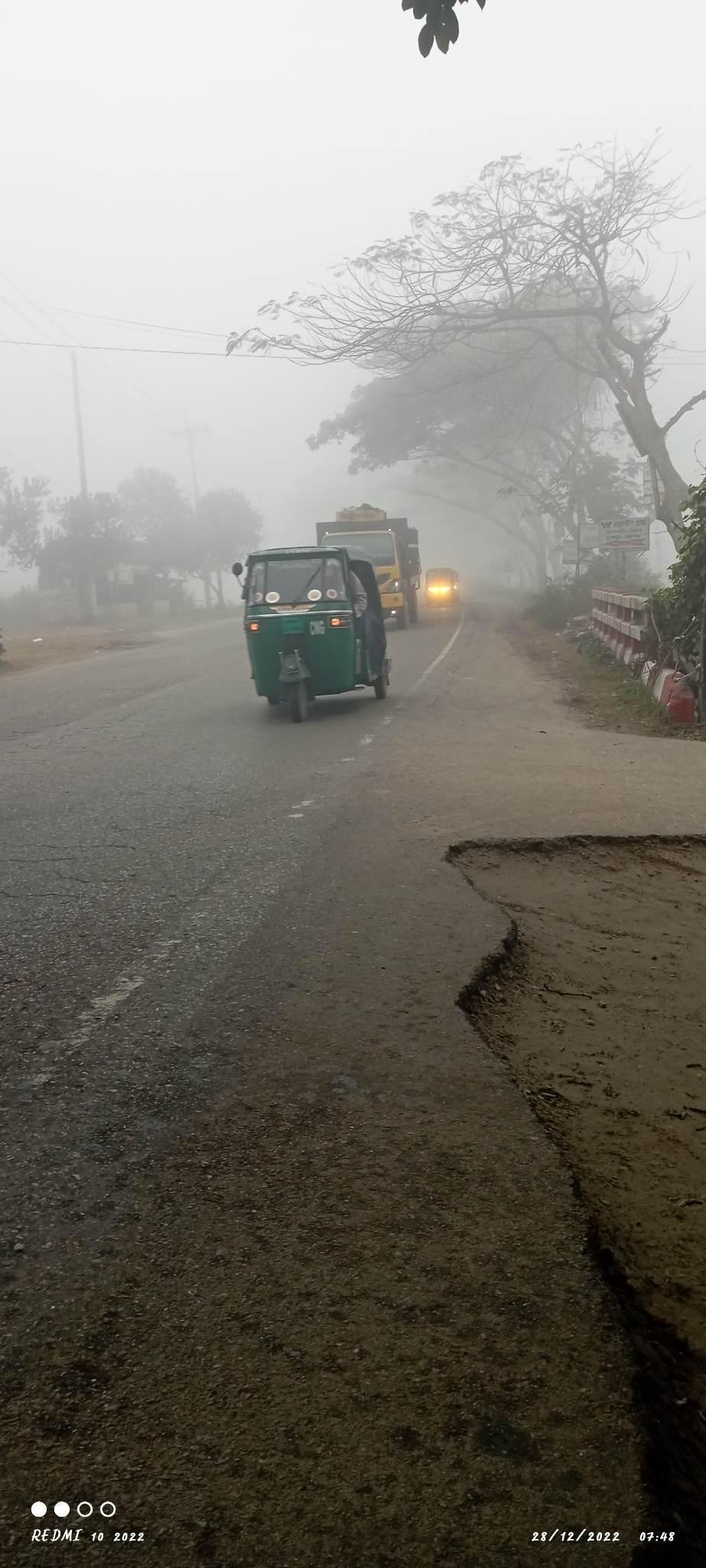Truck: (298, 494, 432, 642)
